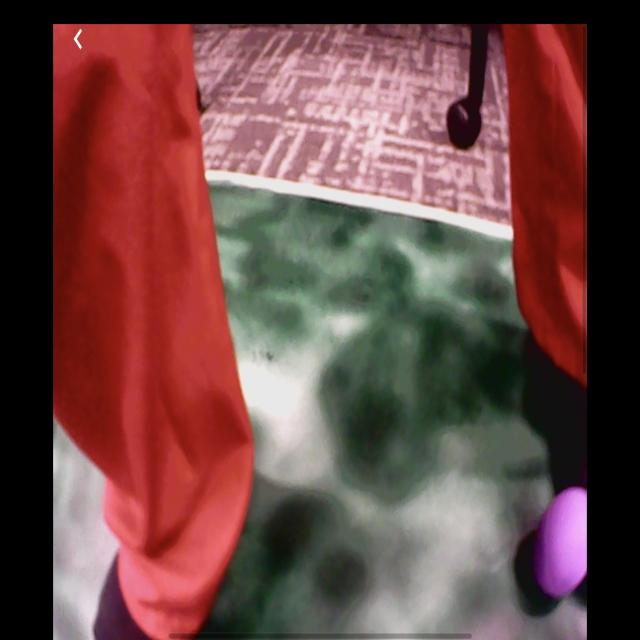ball: (532, 490, 587, 601)
